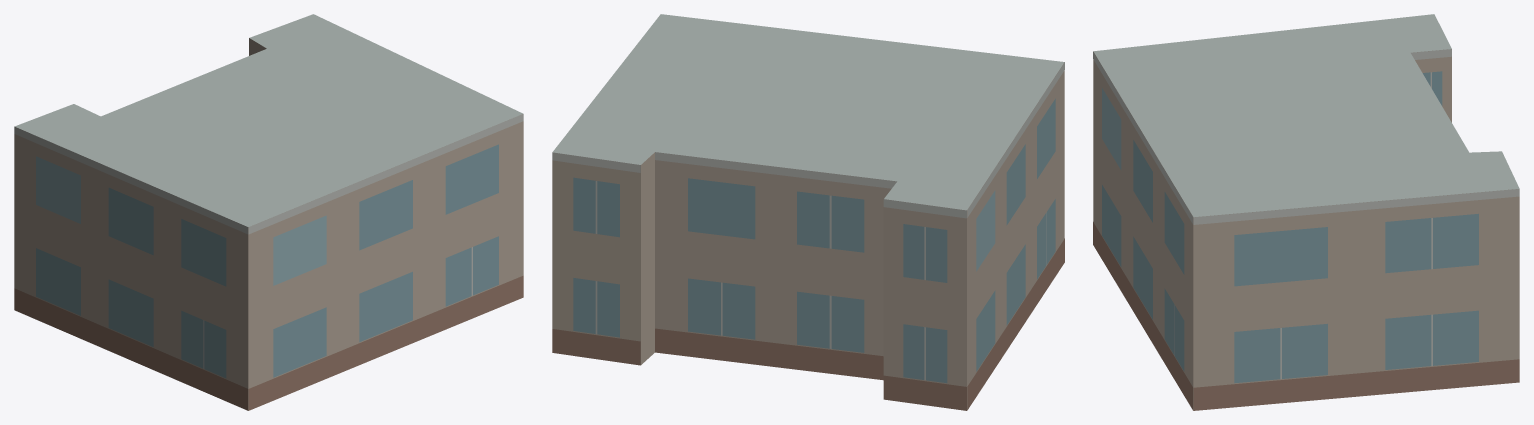
File: survey-upis-32893139.glb
3 renders of one model, left to right at view 1: azimuth 30°, elevation 25°; view 2: azimuth 150°, elevation 25°; view 3: azimuth 270°, elevation 25°, orthographic. The views are drawn at different scales.
Parts seen in each view (by area): view 1: survey-upis-32893139.tmp; view 2: survey-upis-32893139.tmp; view 3: survey-upis-32893139.tmp.
Boxes of the visible parts, bbox=[...] form: survey-upis-32893139.tmp: bbox=[14, 14, 523, 410]; survey-upis-32893139.tmp: bbox=[552, 14, 1064, 410]; survey-upis-32893139.tmp: bbox=[1093, 14, 1519, 410].
Bounding box in the file's own units: 13.74 × 6.1 × 12.19.
